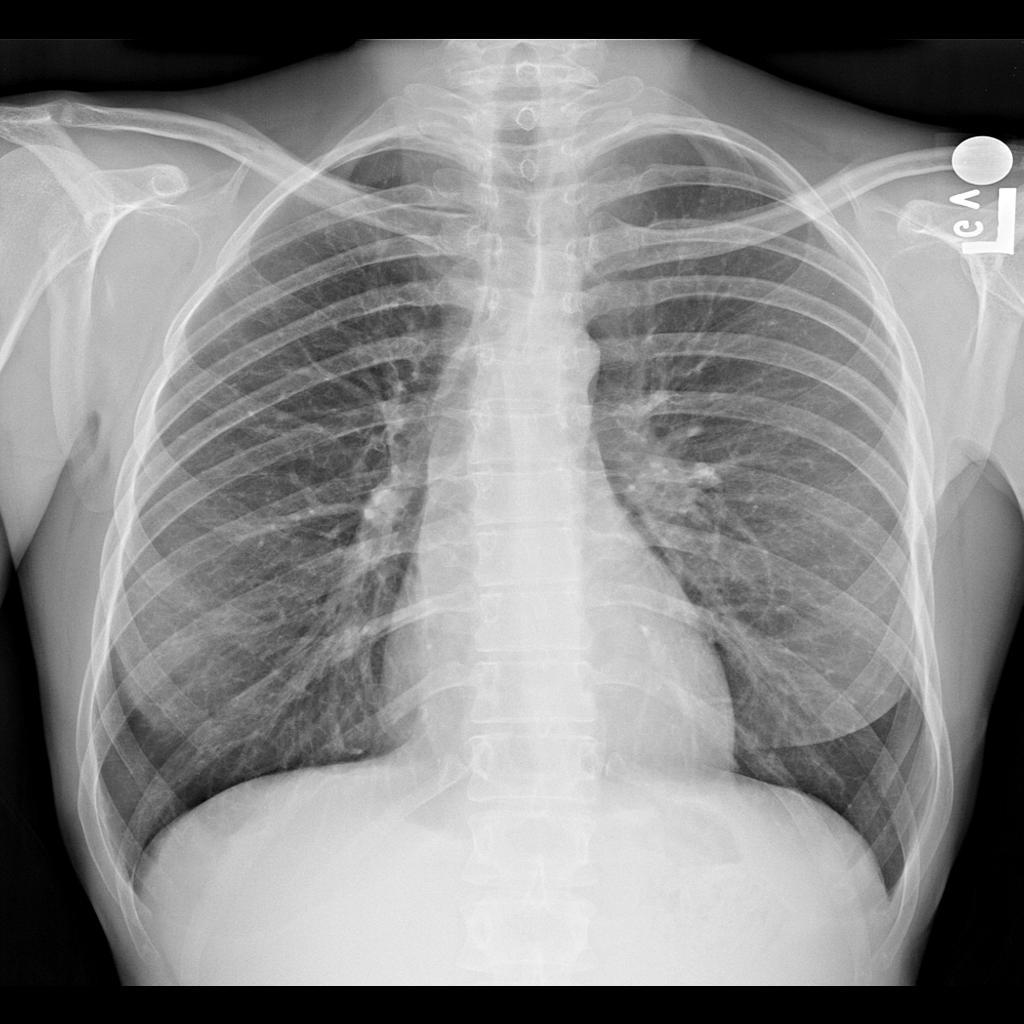Nodule: (698, 464, 721, 492)
